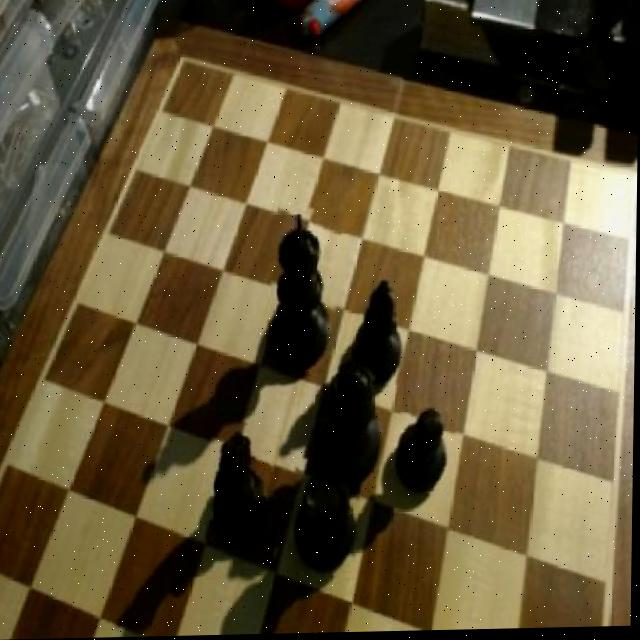bishop: (359, 274, 407, 387)
black-bishop: (266, 208, 341, 376)
black-king: (207, 421, 276, 547)
black-knight: (399, 405, 458, 497)
black-pawn: (322, 356, 386, 489)
black-queen: (290, 460, 363, 577)
